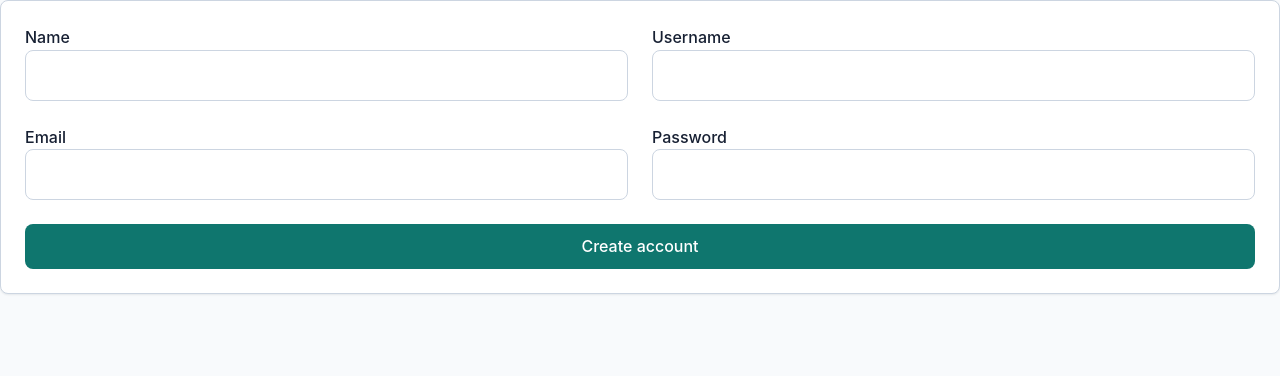
RegistrationForm › displays duplicate username or email API errors
Type "Ada Lovelace" into the field labelled "Name" at (326, 75), box [25,50,628,101]
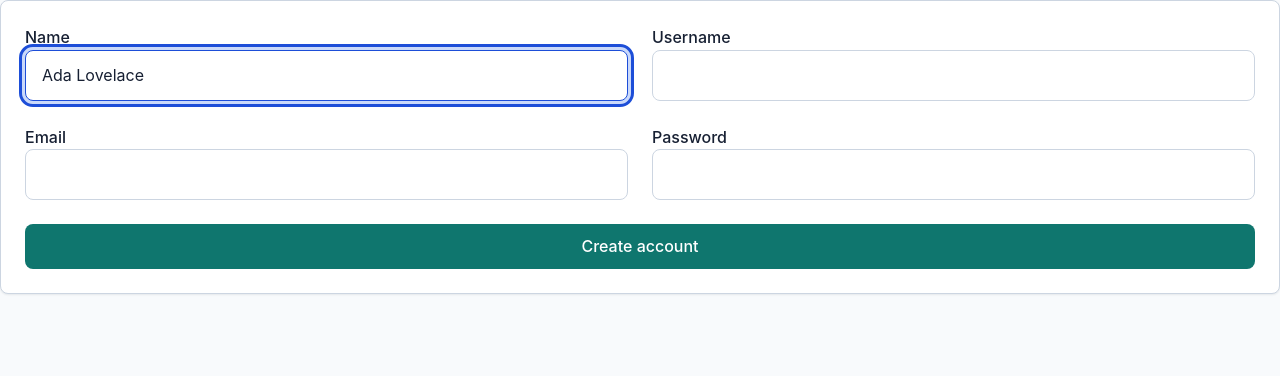
Type "ada" into the field labelled "Username" at (954, 75), box [652,50,1255,101]
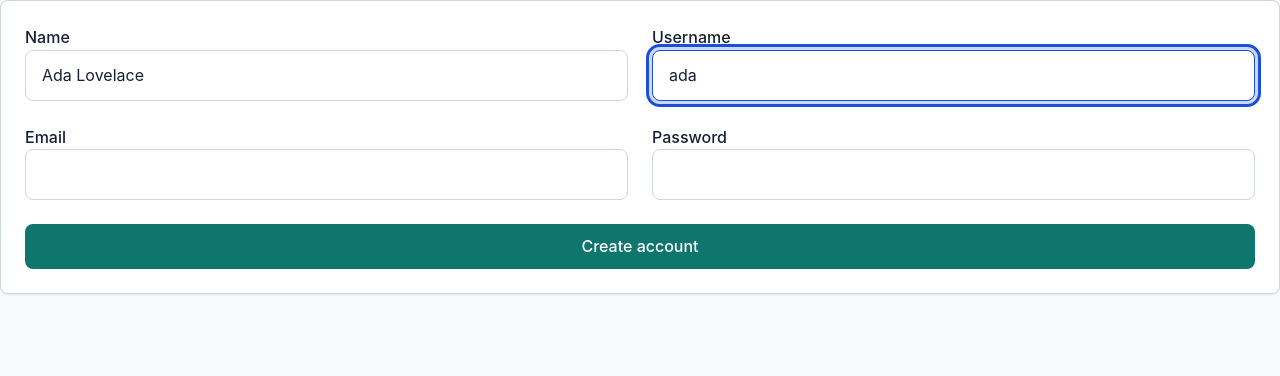
Type "ada@example.com" into the field labelled "Email" at (326, 175), box [25,149,628,200]
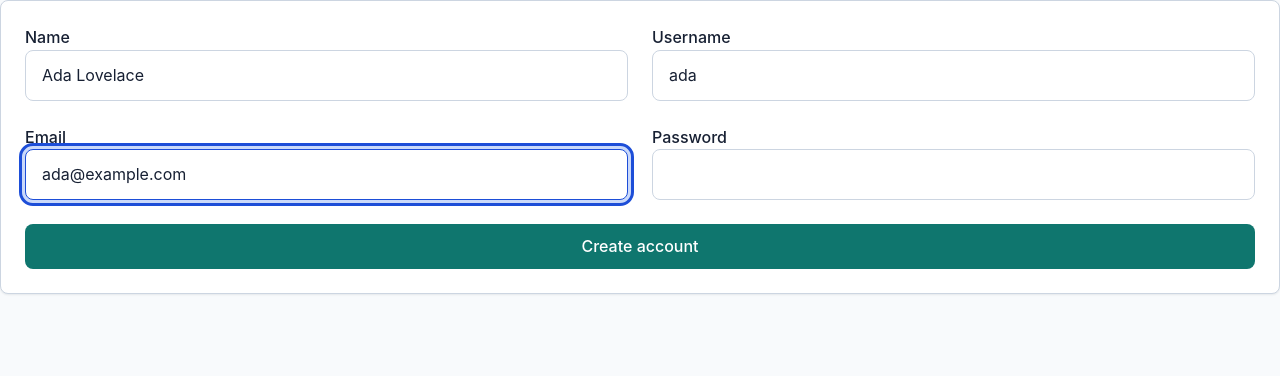
Type "correct-horse-battery-staple" into the password field labelled "Password" at (954, 175), box [652,149,1255,200]
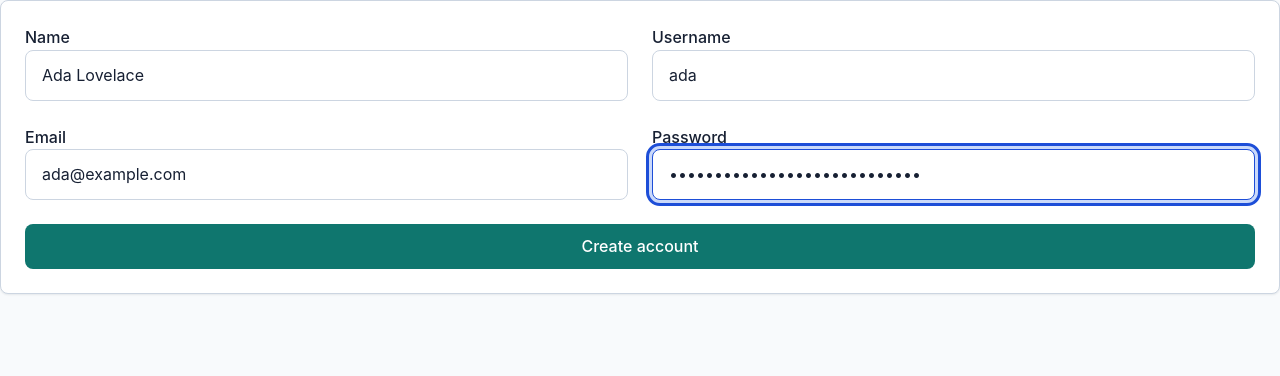
Click the button "Create account" at (640, 246), box [25,224,1255,269]
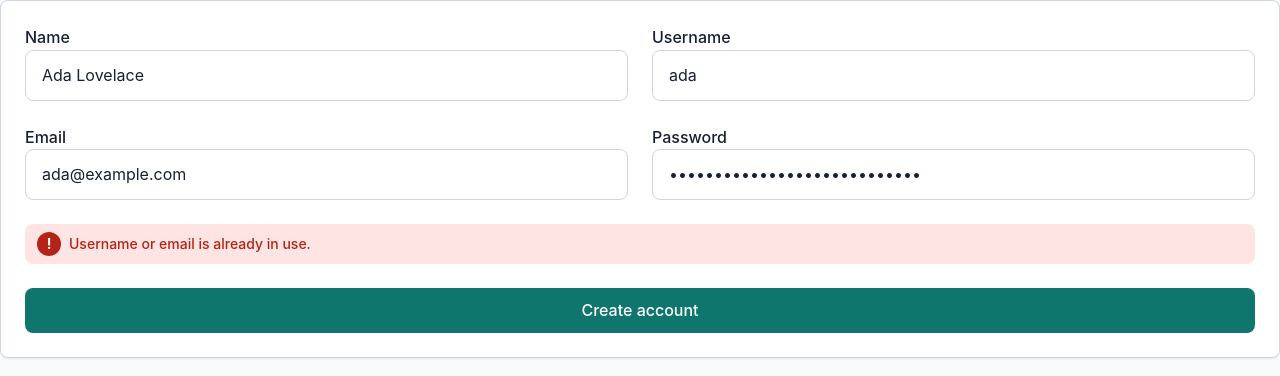
expect the text "Username or email is already in use." is shown: met, box [69,234,311,254]
